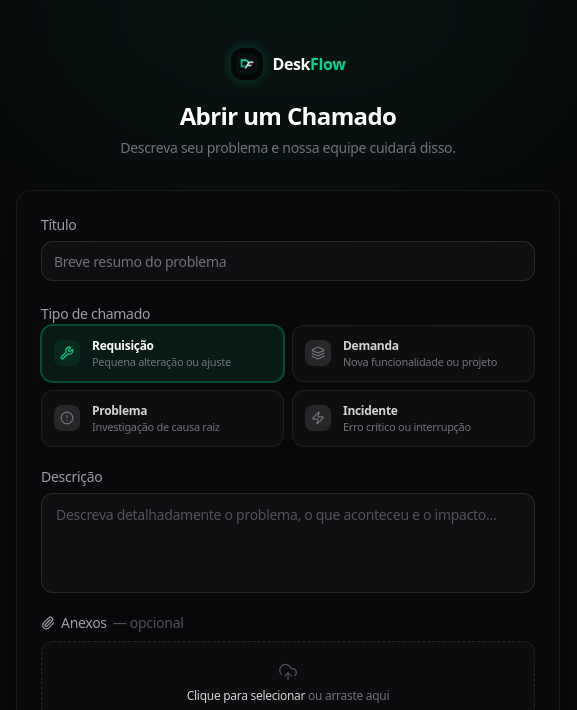
Portal › hides priority selector when switching away from INCIDENT
Click the text "Incidente".
click(370, 410)  # box [343,402,398,419]
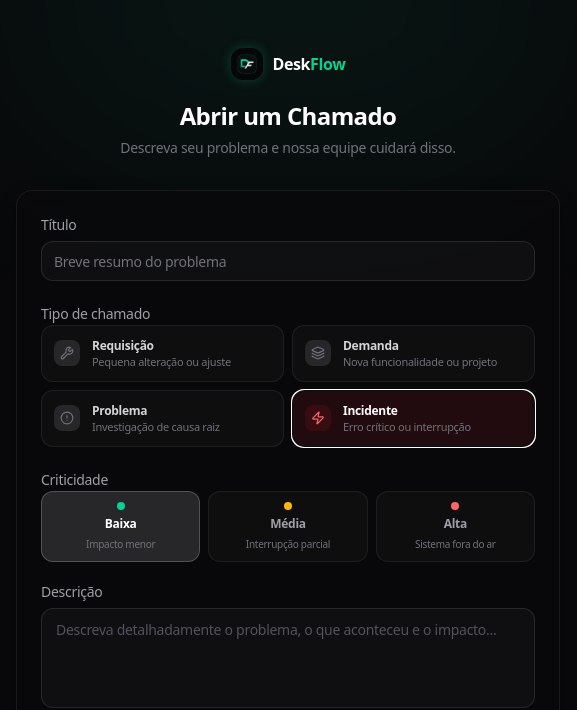
Check: the text "Criticidade" is shown, box [41,470,108,488]
Click the text "Requisição".
click(123, 346)  # box [92,337,154,354]
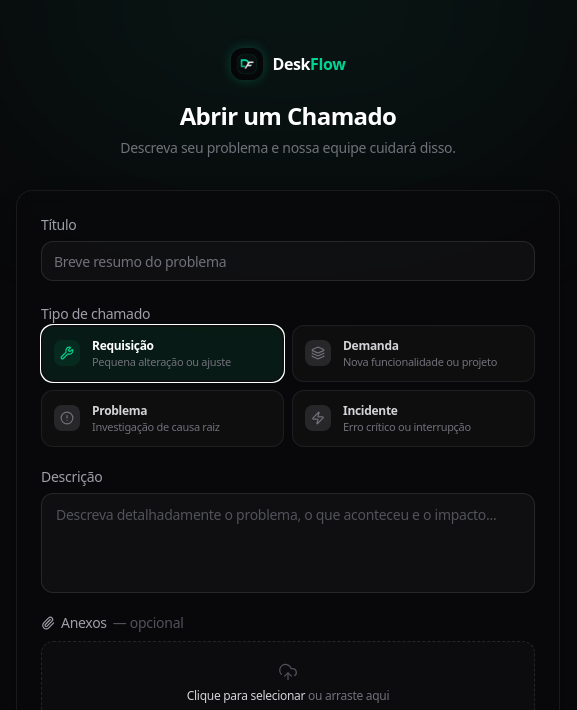
Check: the text "Criticidade" is gone
